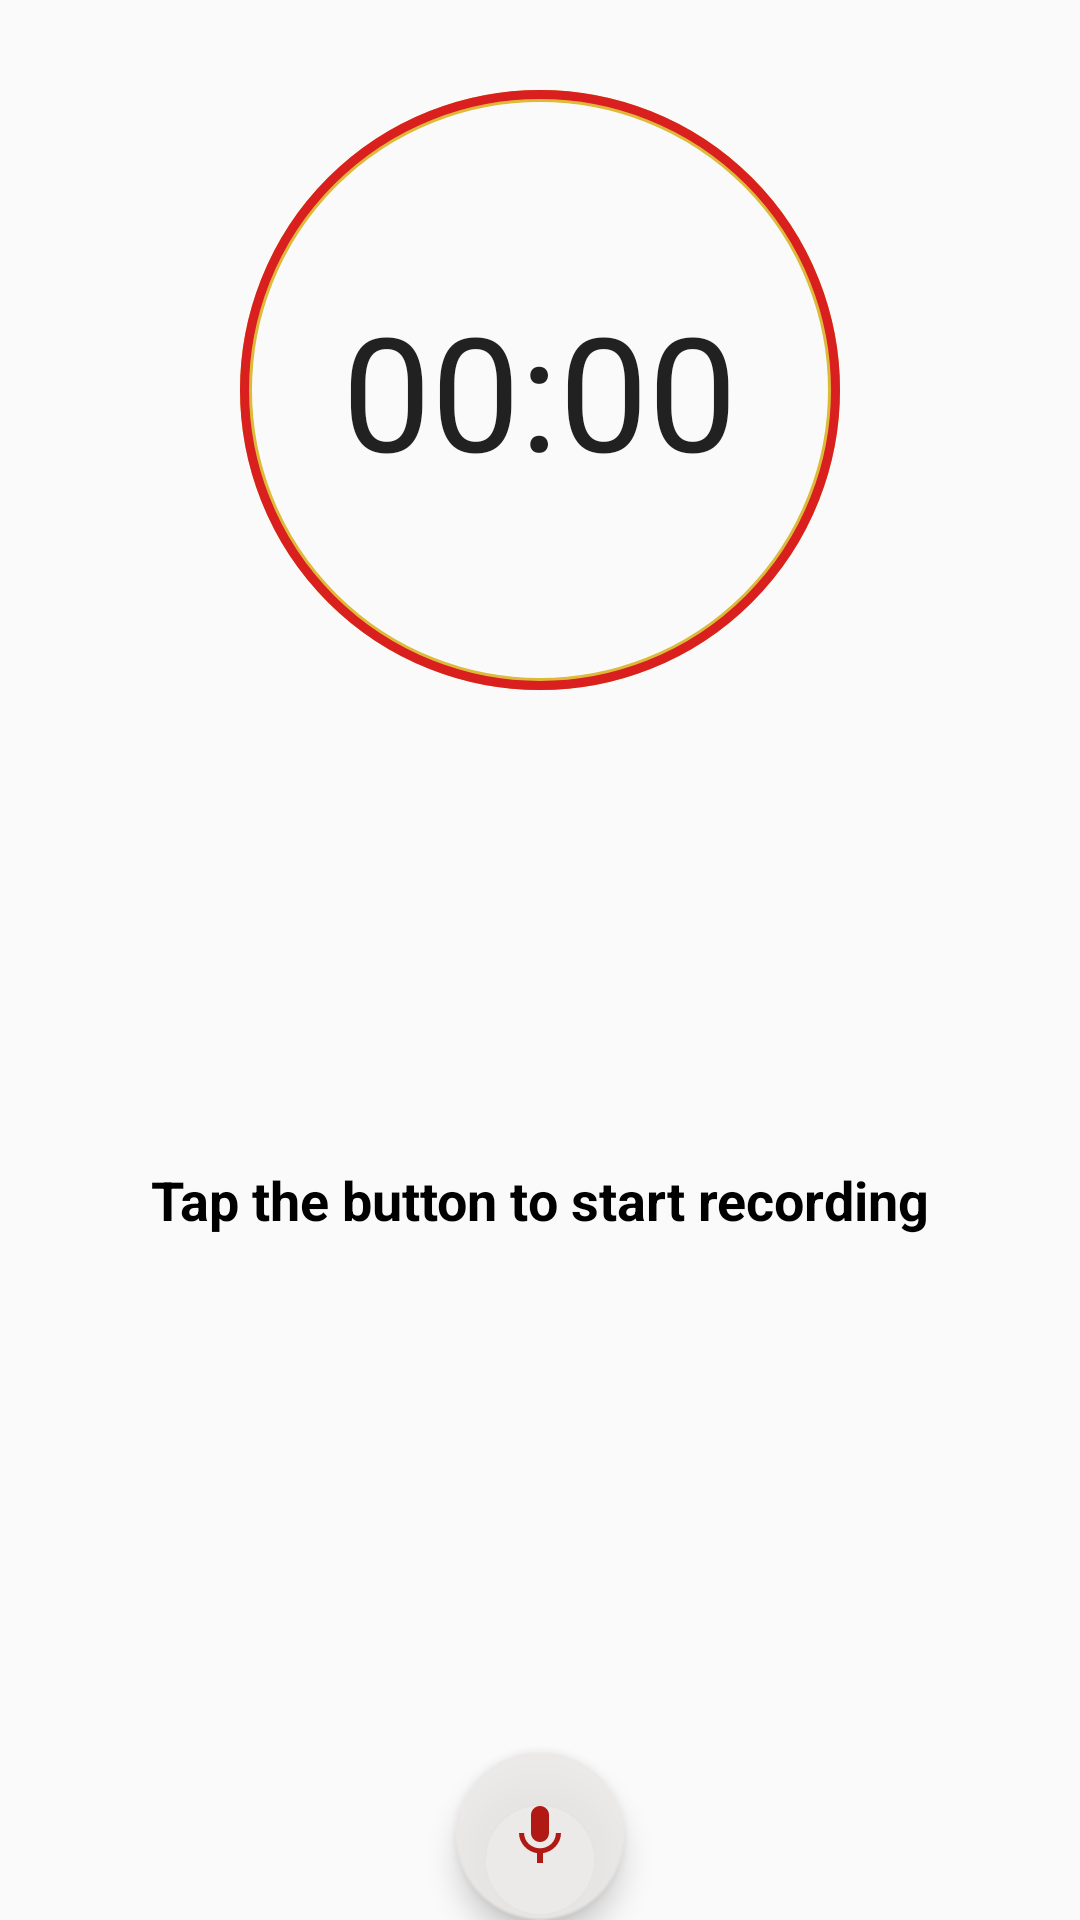

Where to tap for icons on this 1080px×1920px app screen, as (x,y):
mic: (540,1836)
